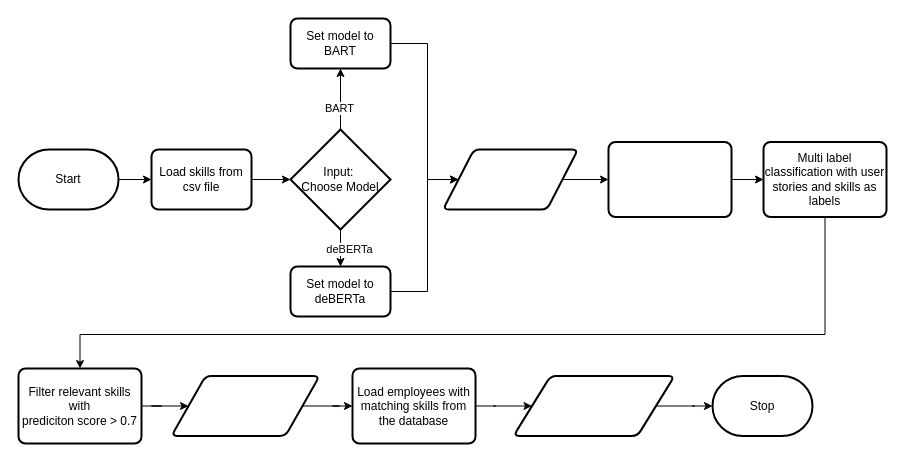
Image size: 904x461. Some labels were removed from this diagram. Here are the shapes that lost their labels. From the top down, the box of each, then its label:
(442, 148, 578, 210): Input: User Story
(607, 140, 732, 218): Load pipeline with zero shot classification task and model
(170, 374, 320, 436): Output: relevant skills
(512, 374, 675, 436): Output: employees with relevant skills
